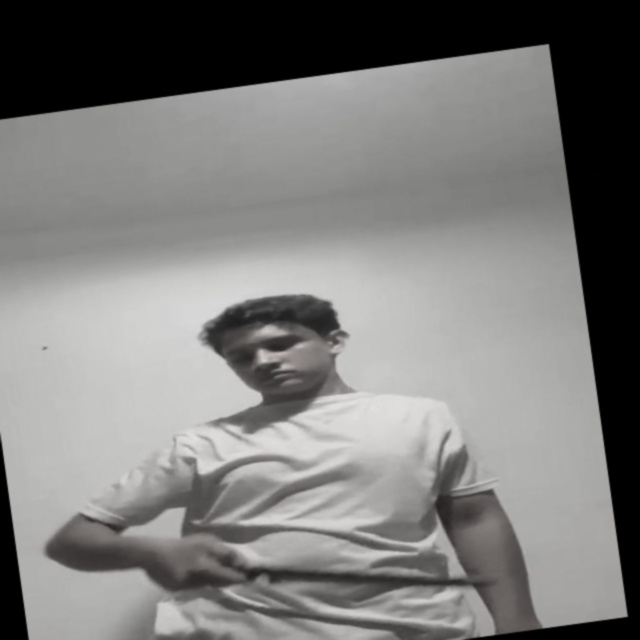Sharp-Object: (265, 541, 487, 612)
